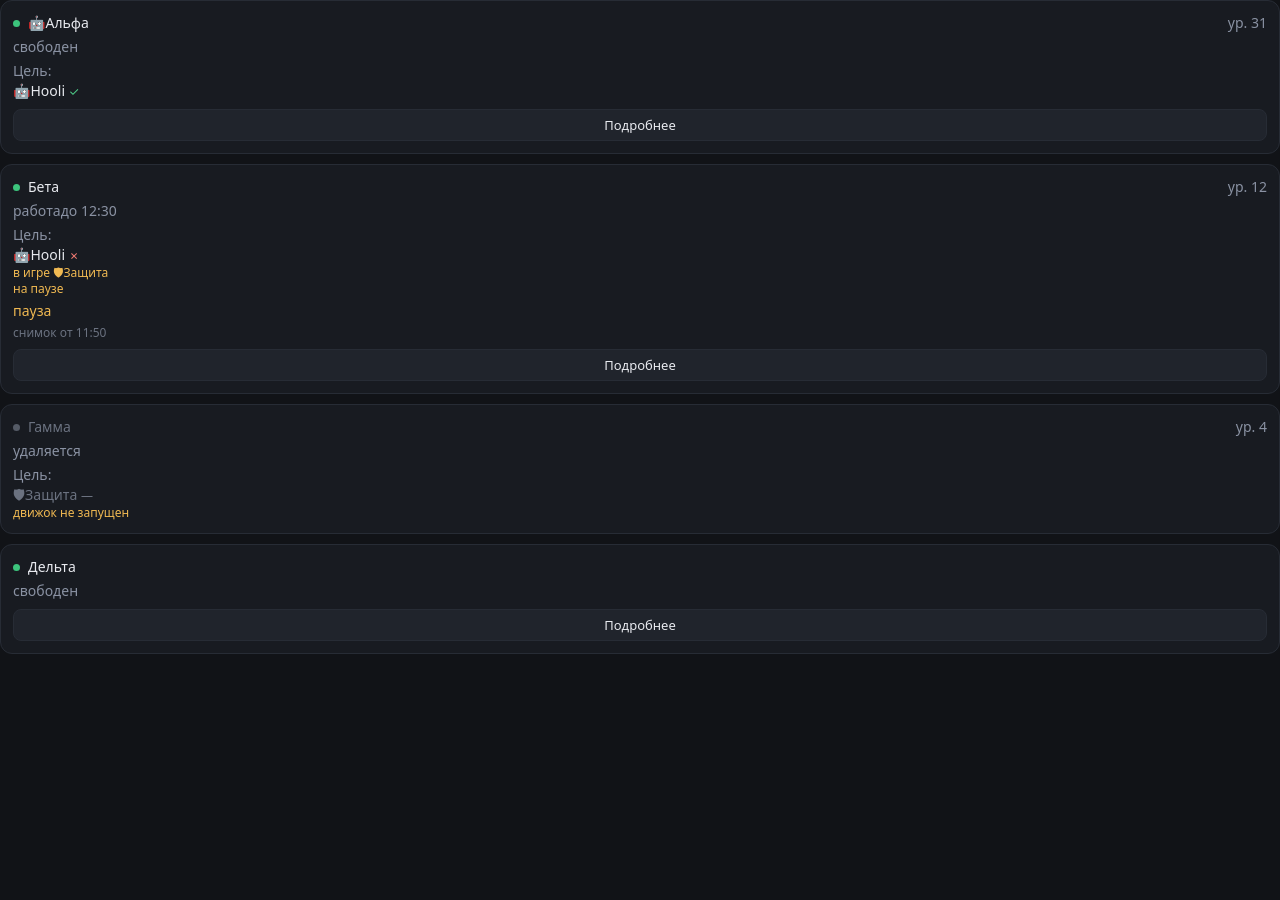
Test case: карточки сводки (телефон) › «Подробнее» раскрывает сетку остальных полей, повторно сворачивает
Expected: the text "18 450" is not shown
Click the button "Подробнее" below "🤖Альфа" at (640, 125), box [13,109,1267,141]
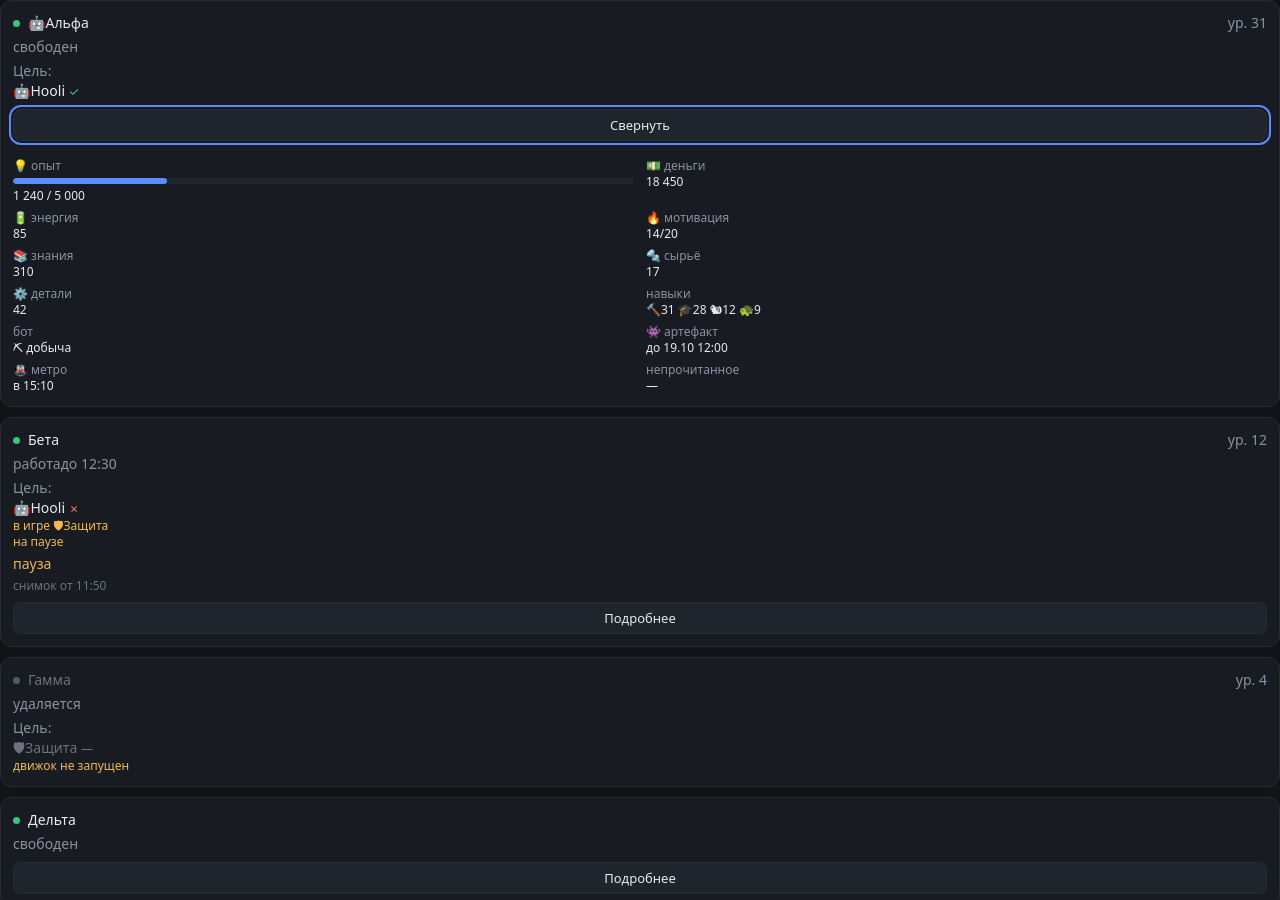
Result: the button named "Подробнее" is expanded
Result: the text "18 450" is shown at [646,173,684,190]
Result: the text "🔨31 🎓28 🐿12 🐢9" is shown at [646,301,761,318]
Click the button named "Подробнее" at (640, 125), box [13,109,1267,141]
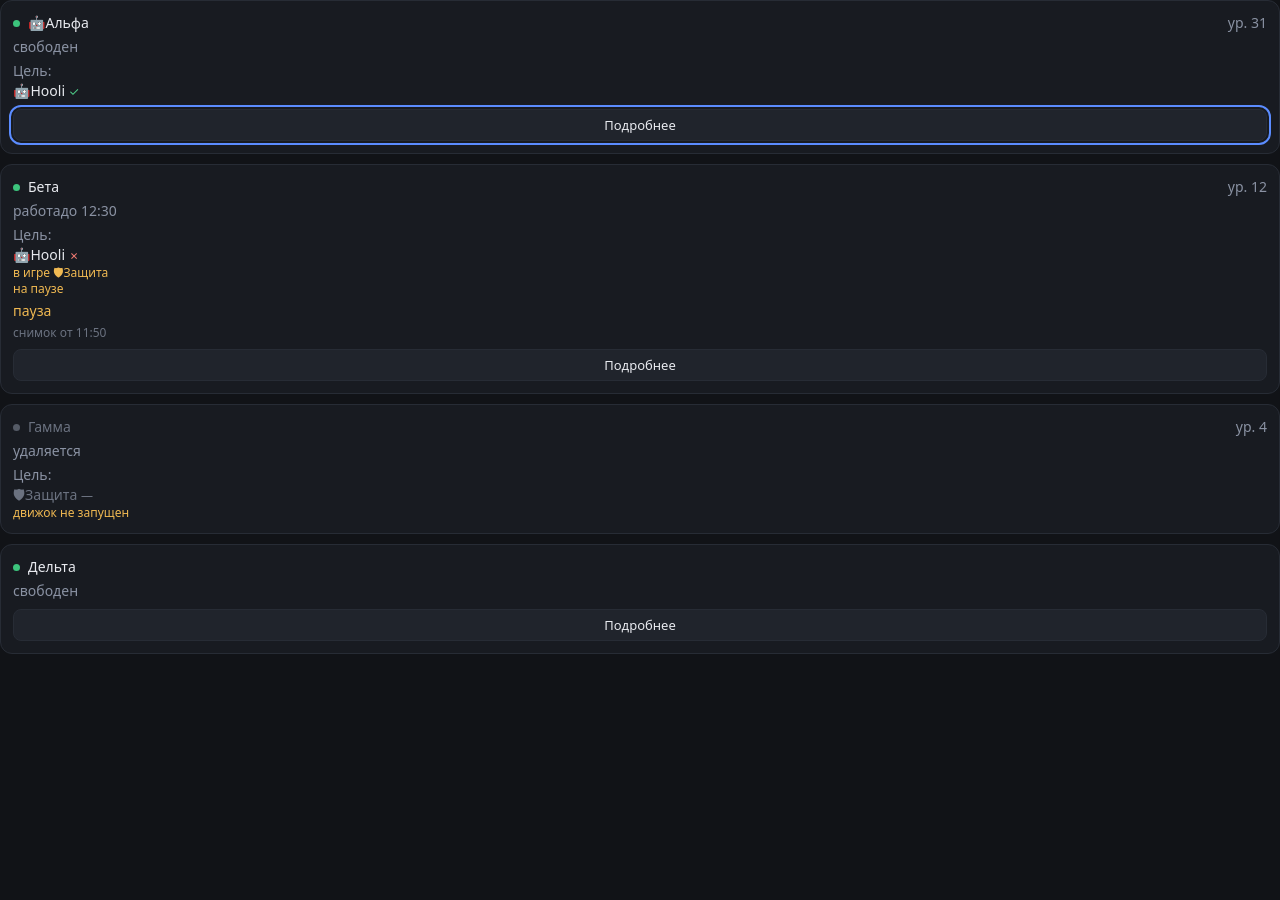
Result: the text "18 450" is gone
